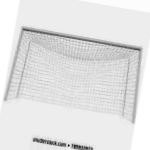goals: (3, 24, 143, 126)
